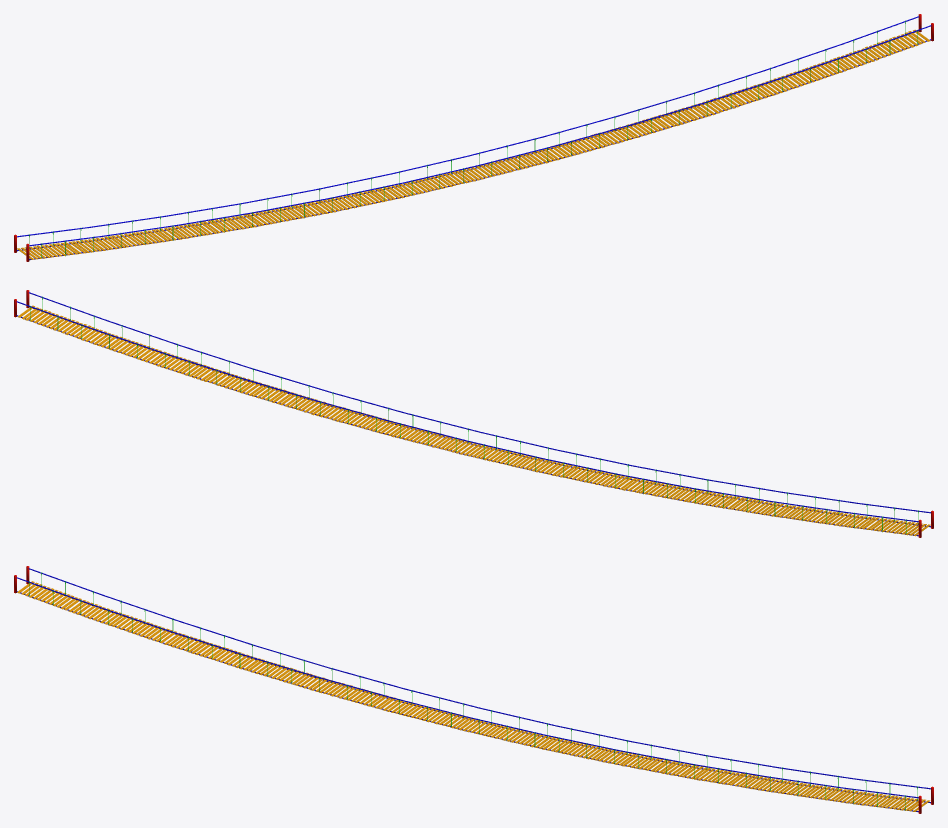
Rendered from _BRIDGE_HIGH_POLY.fbx.
3 views of the same model, one above another, from view 1: azimuth 30°, elevation 25°; view 2: azimuth 150°, elevation 25°; view 3: azimuth 330°, elevation 25° (orthographic).
Visible parts, largest first — view 1: _BRIDGE_HIGH; view 2: _BRIDGE_HIGH; view 3: _BRIDGE_HIGH.
Part boxes in pixels (x1=…): _BRIDGE_HIGH: x1=14, y1=14, x2=933, y2=261; _BRIDGE_HIGH: x1=14, y1=290, x2=933, y2=537; _BRIDGE_HIGH: x1=14, y1=566, x2=933, y2=813.
Bounding box in the file's own units: 6820 × 330 × 208.
